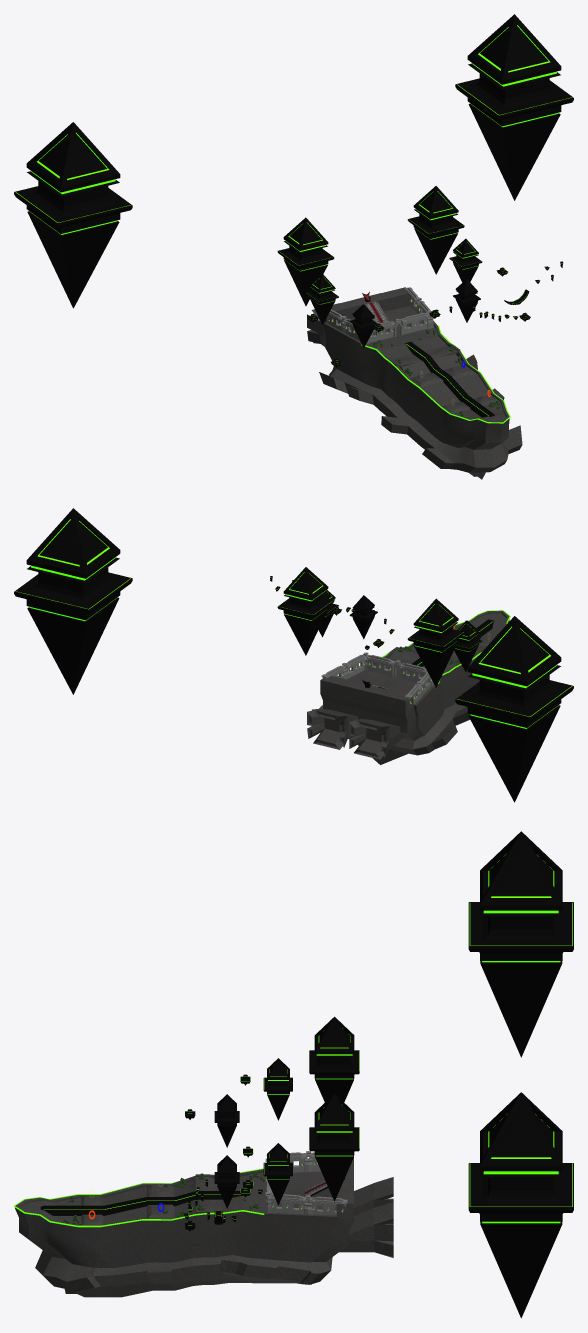
File: World1.glb
3 renders of one model, top to bottom at view 1: azimuth 30°, elevation 25°; view 2: azimuth 150°, elevation 25°; view 3: azimuth 270°, elevation 25°, orthographic. The views are drawn at different scales.
Parts seen in each view (by area): view 1: BigTower.004, Landscape_ShipFloor, BigTower.002, BigTower.001, BigTower.003, Cube.001, ShipWall; view 2: BigTower.004, Landscape_ShipFloor, BigTower.002, BigTower.001, ShipWall, BigTower.003, ShipWall.001; view 3: Landscape_ShipFloor, BigTower.004, BigTower.002, BigTower.001, Cube.001, BigTower.003, ShipWall.001, outerBeam, ShipWall.003.
Boxes of the visible parts, x1,y1,x2,y2 form: BigTower.004: (14, 14, 573, 308); Landscape_ShipFloor: (307, 287, 522, 479); BigTower.002: (277, 186, 464, 306); BigTower.001: (306, 238, 482, 324); BigTower.003: (350, 279, 480, 348); Cube.001: (405, 342, 494, 417); ShipWall: (369, 313, 429, 342); BigTower.004: (14, 508, 573, 802); Landscape_ShipFloor: (307, 610, 509, 764); BigTower.002: (277, 567, 464, 687); BigTower.001: (318, 590, 482, 671); ShipWall: (366, 655, 427, 682); BigTower.003: (349, 595, 480, 639); ShipWall.001: (346, 654, 432, 695); Landscape_ShipFloor: (15, 1158, 393, 1297); BigTower.004: (468, 831, 573, 1318); BigTower.002: (309, 1016, 359, 1201); BigTower.001: (263, 1058, 292, 1205); Cube.001: (40, 1191, 241, 1215); BigTower.003: (214, 1094, 239, 1208); ShipWall.001: (268, 1152, 306, 1214); outerBeam: (14, 1168, 264, 1227); ShipWall.003: (309, 1152, 347, 1215).
Size of the model in its own units: 546 by 280 by 423.
Materials: 10 (7 with a texture image).
